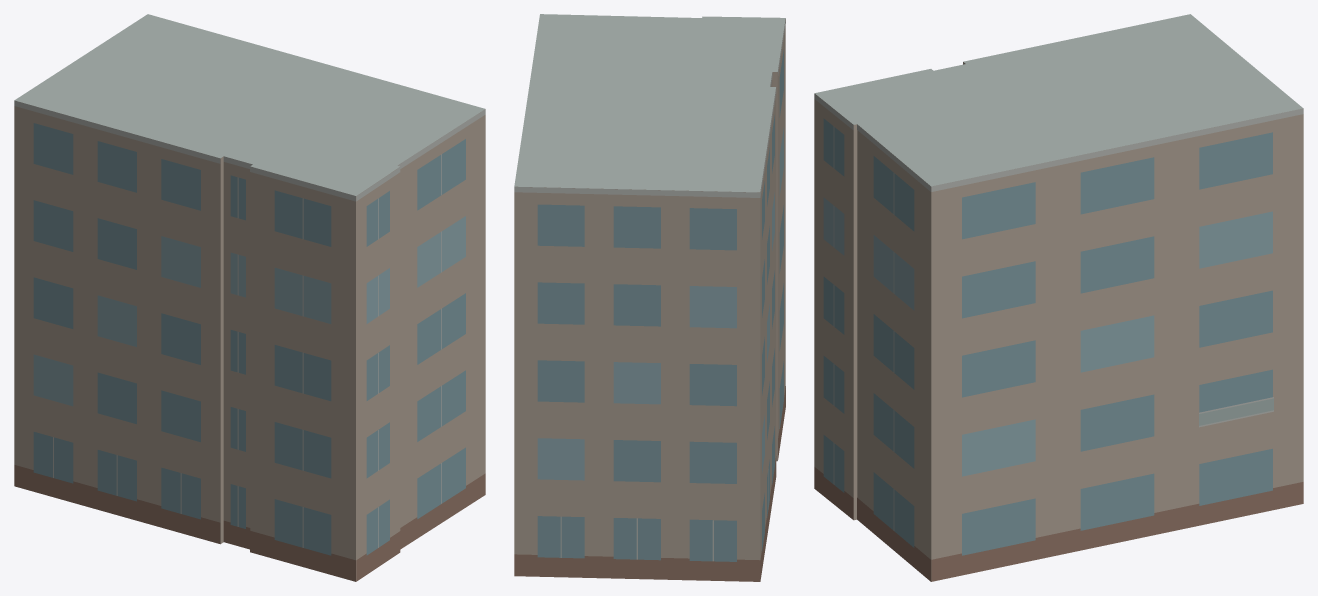
File: survey-upis-32839750.glb
3 renders of one model, left to right at view 1: azimuth 30°, elevation 25°; view 2: azimuth 150°, elevation 25°; view 3: azimuth 270°, elevation 25°, orthographic. The views are drawn at different scales.
Parts seen in each view (by area): view 1: survey-upis-32839750.tmp; view 2: survey-upis-32839750.tmp; view 3: survey-upis-32839750.tmp.
Boxes of the visible parts, box(x1,y1,x2,y2) form: survey-upis-32839750.tmp: box(14, 14, 485, 581); survey-upis-32839750.tmp: box(514, 14, 785, 581); survey-upis-32839750.tmp: box(814, 14, 1303, 581).
Size of the model in its own units: 15.91 by 17 by 19.07.
